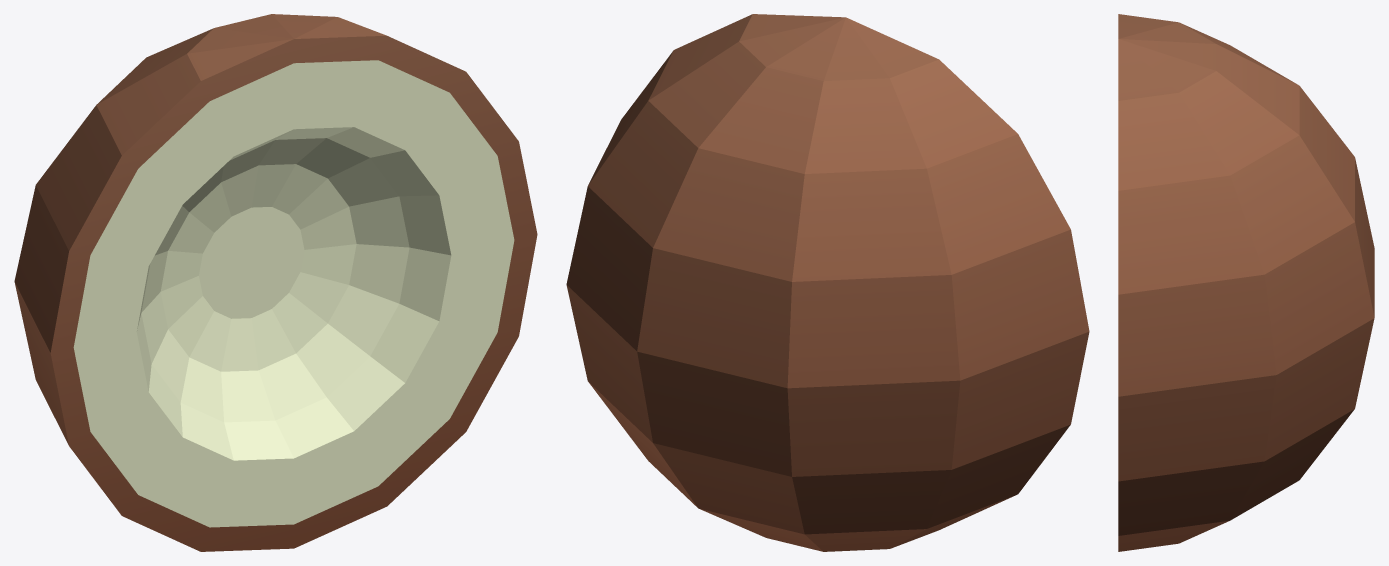
File: Coconut Half.fbx
3 views of the same model, side by side, from view 1: azimuth 30°, elevation 25°; view 2: azimuth 150°, elevation 25°; view 3: azimuth 270°, elevation 25° (orthographic). The views are drawn at different scales.
Visible parts, largest first — view 1: Coconut Half; view 2: Coconut Half; view 3: Coconut Half.
Boxes of the visible parts, <box> form: Coconut Half: <box>14,14,537,551</box>; Coconut Half: <box>566,14,1089,551</box>; Coconut Half: <box>1118,14,1374,551</box>.
Size of the model in its own units: 17.32 by 17.32 by 8.24.
